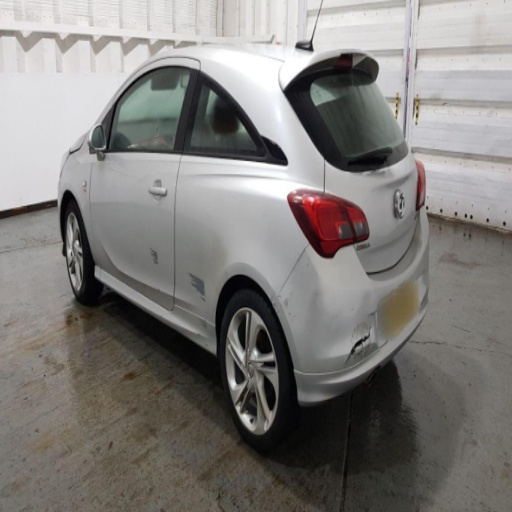dent: (349, 309, 385, 371), (190, 325, 216, 355)
